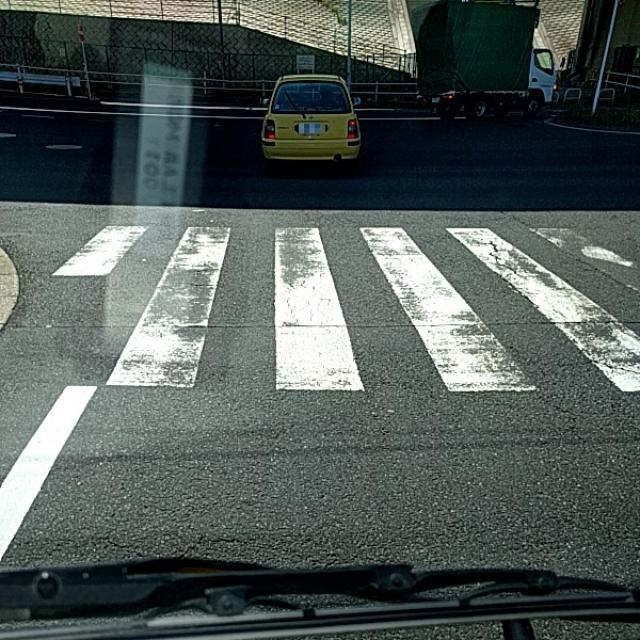pothole: (212, 310, 262, 351)
